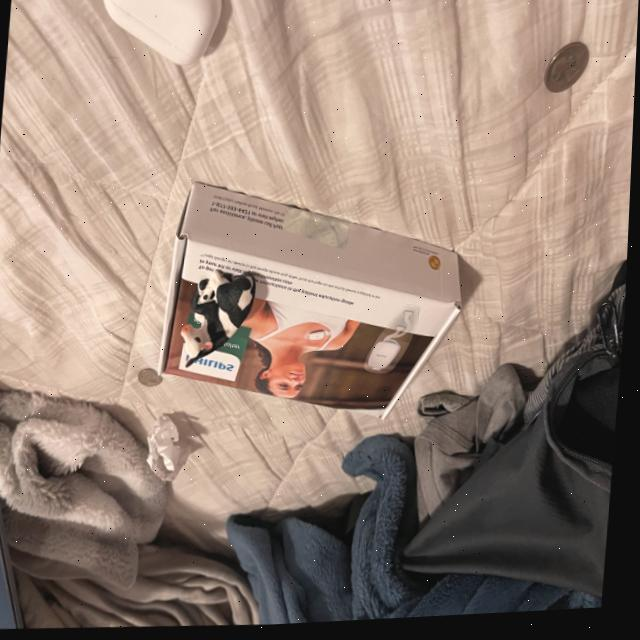cow: (174, 263, 263, 382)
